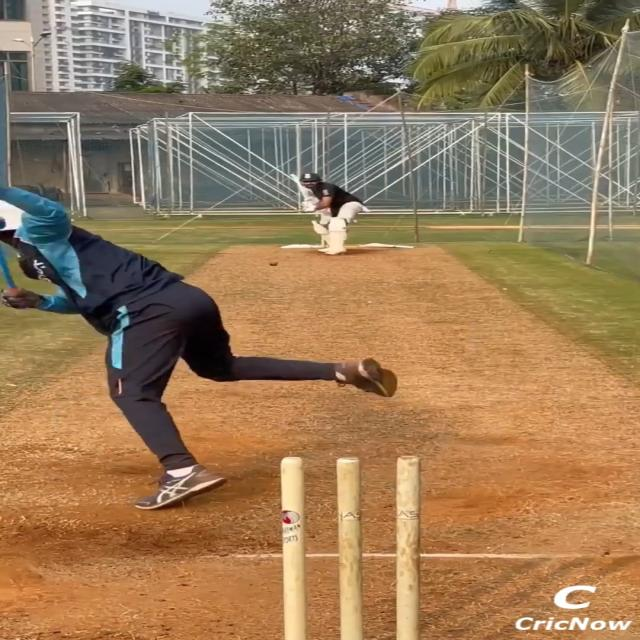ball: (269, 261, 280, 267)
stump: (275, 454, 424, 640)
